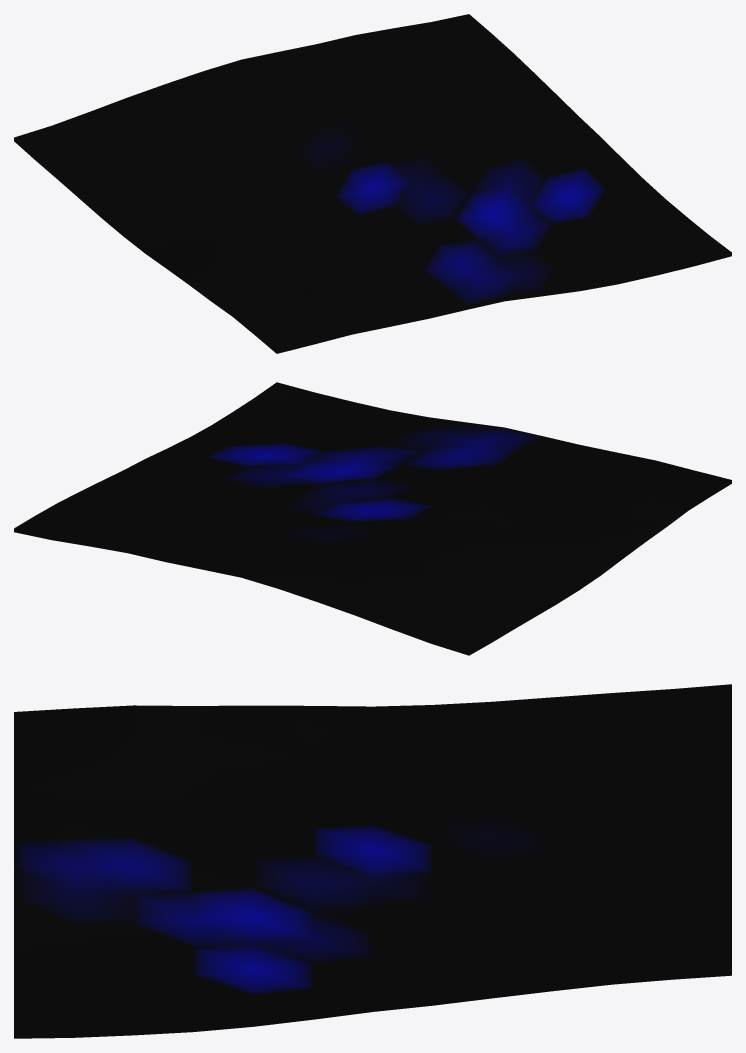
The model's file is coast_20_4.glb.
The picture shows the model from 3 angles, top to bottom: view 1: azimuth 30°, elevation 25°; view 2: azimuth 150°, elevation 25°; view 3: azimuth 270°, elevation 25°; orthographic projection. The views are drawn at different scales.
Parts seen in each view (by area): view 1: terrain; view 2: terrain; view 3: terrain.
Part boxes in pixels (x1,y1,x2,y2): terrain: (14,14,731,353); terrain: (14,382,731,655); terrain: (14,684,731,1038).
Size of the model in its own units: 192 by 24.52 by 192.
